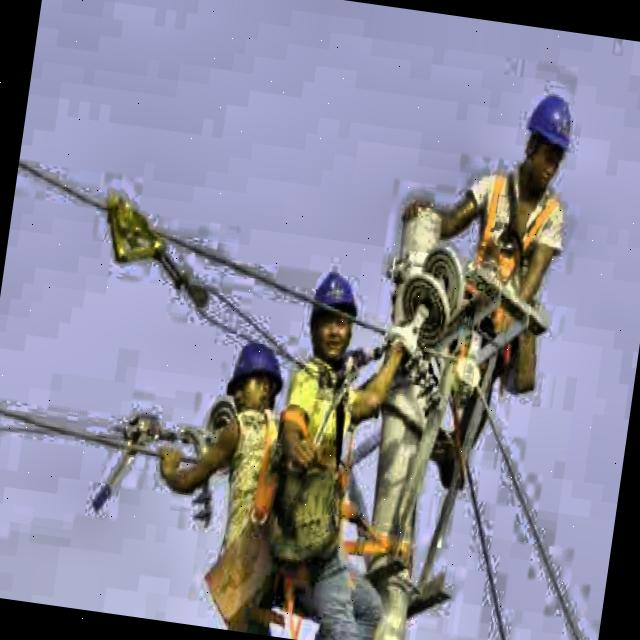helmet: (510, 80, 582, 200), (300, 259, 368, 366), (222, 336, 290, 432)
